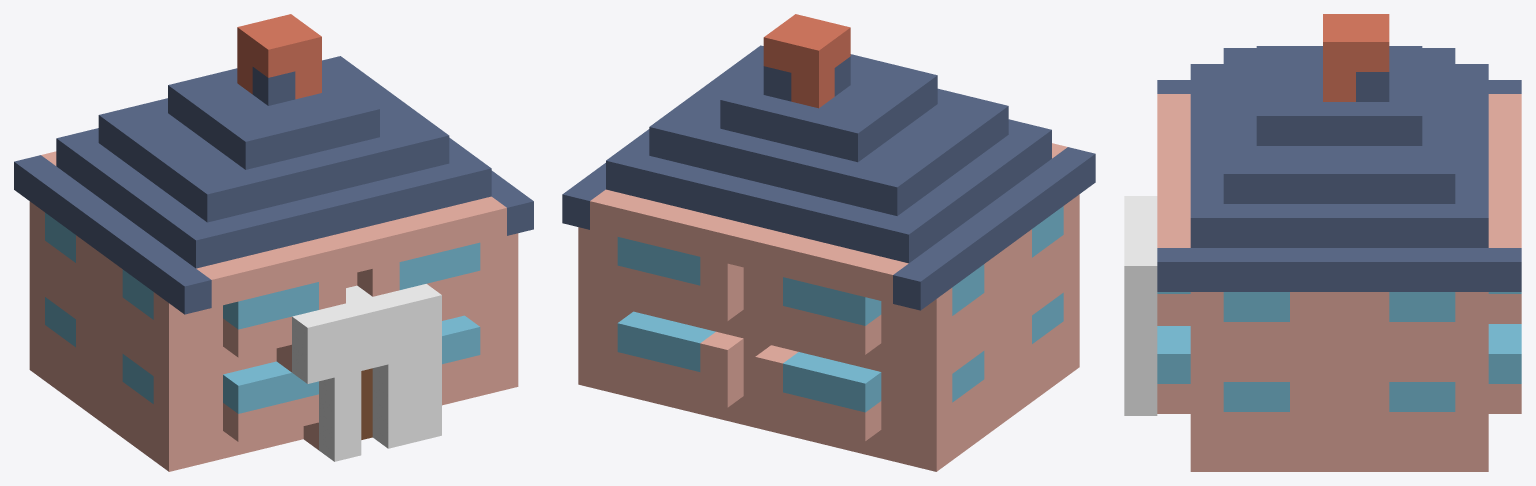
The model's file is house_2.glb.
The picture shows the model from 3 angles, left to right: view 1: azimuth 30°, elevation 25°; view 2: azimuth 150°, elevation 25°; view 3: azimuth 270°, elevation 25°; orthographic projection. The views are drawn at different scales.
Visible parts, largest first — view 1: house_2_roof_slate, house_2_wall_pink, house_2_white, house_2_window, house_2_brick, house_2_door; view 2: house_2_wall_pink, house_2_roof_slate, house_2_window, house_2_brick; view 3: house_2_roof_slate, house_2_wall_pink, house_2_window, house_2_white, house_2_brick.
Part boxes in pixels (x1,y1,x2,y2): house_2_roof_slate: (14,56,533,314); house_2_wall_pink: (29,151,518,471); house_2_white: (292,284,441,461); house_2_window: (45,212,480,413); house_2_brick: (237,14,321,99); house_2_door: (361,368,372,439); house_2_wall_pink: (578,143,1079,471); house_2_roof_slate: (562,45,1095,310); house_2_window: (617,206,1063,412); house_2_brick: (763,14,850,108); house_2_roof_slate: (1157,46,1521,291); house_2_wall_pink: (1157,94,1521,471); house_2_window: (1157,292,1521,411); house_2_white: (1124,196,1157,415); house_2_brick: (1323,14,1389,101).
Size of the model in its own units: 10.47 by 9.66 by 9.66.
